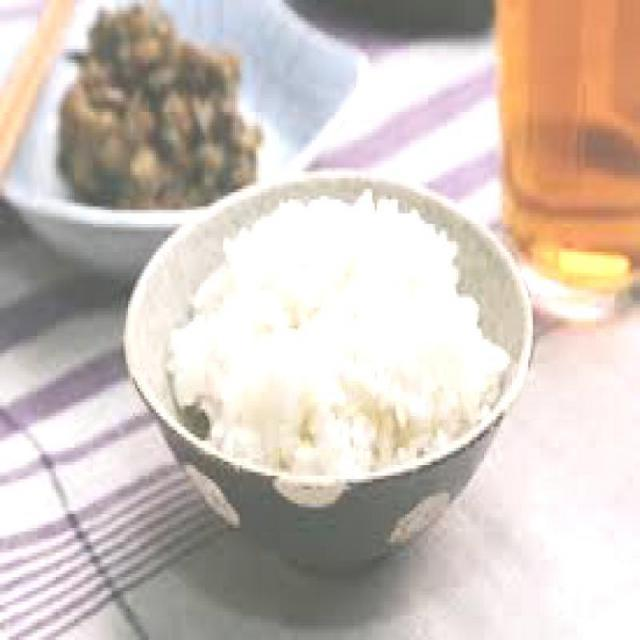rice: (166, 188, 508, 478)
